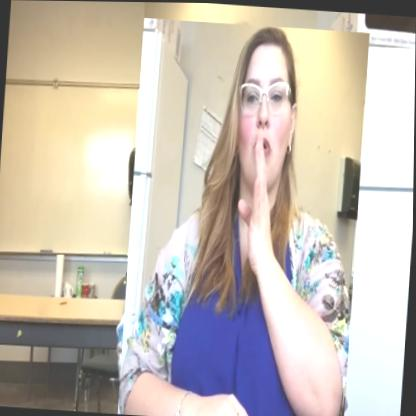Talk: (118, 16, 370, 416)
